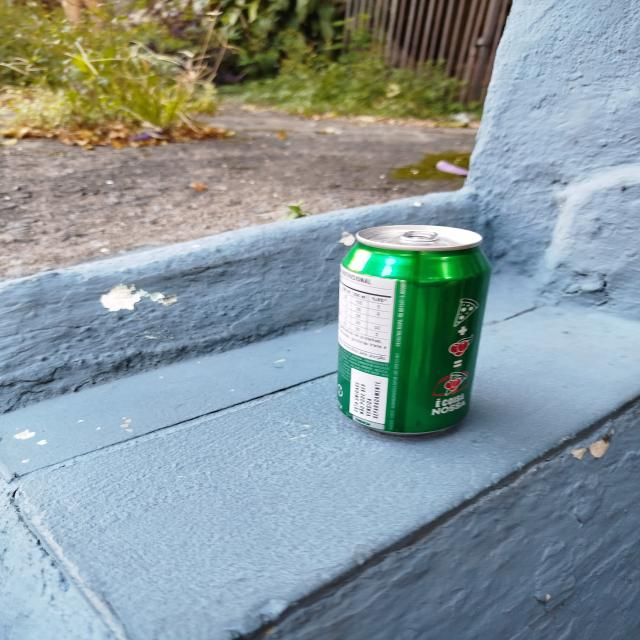Guarana: (341, 226, 494, 433)
